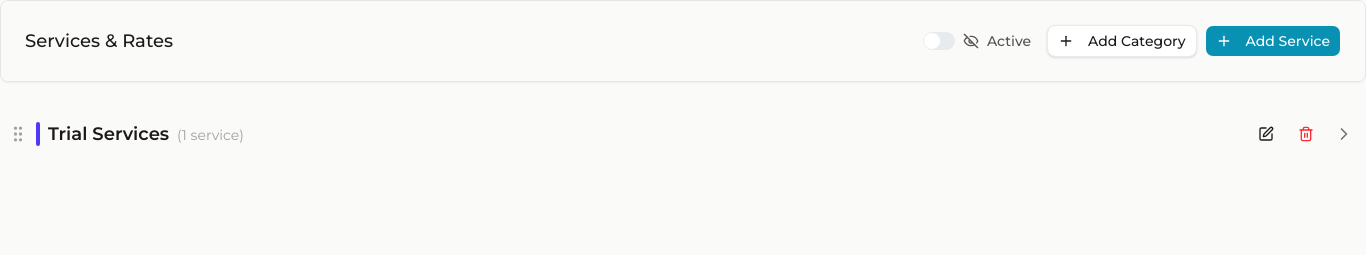
Test case: ServicesSettingsTab › renders the Services & Rates header and the service row
The width and height of the screenshot is (1366, 255).
Expected: the text "Services & Rates" is shown, [25, 29, 173, 53]
Expected: the text "Trial Services" is shown, [48, 123, 169, 145]
Note: Expand the category to see the service row.
What coordinates should you click on to do the following:
click the text "Trial Services"
I would click on:
 (146, 134)
Its box is [48, 120, 244, 148].
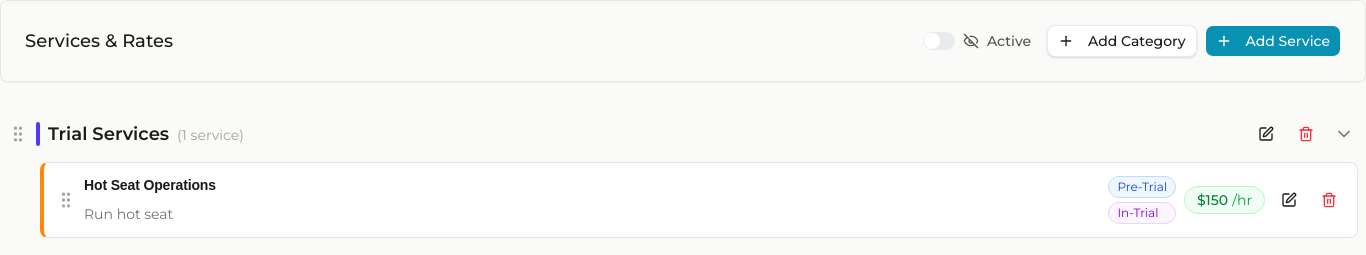
Now the heading "Hot Seat Operations" is shown, box [84, 175, 216, 196]
